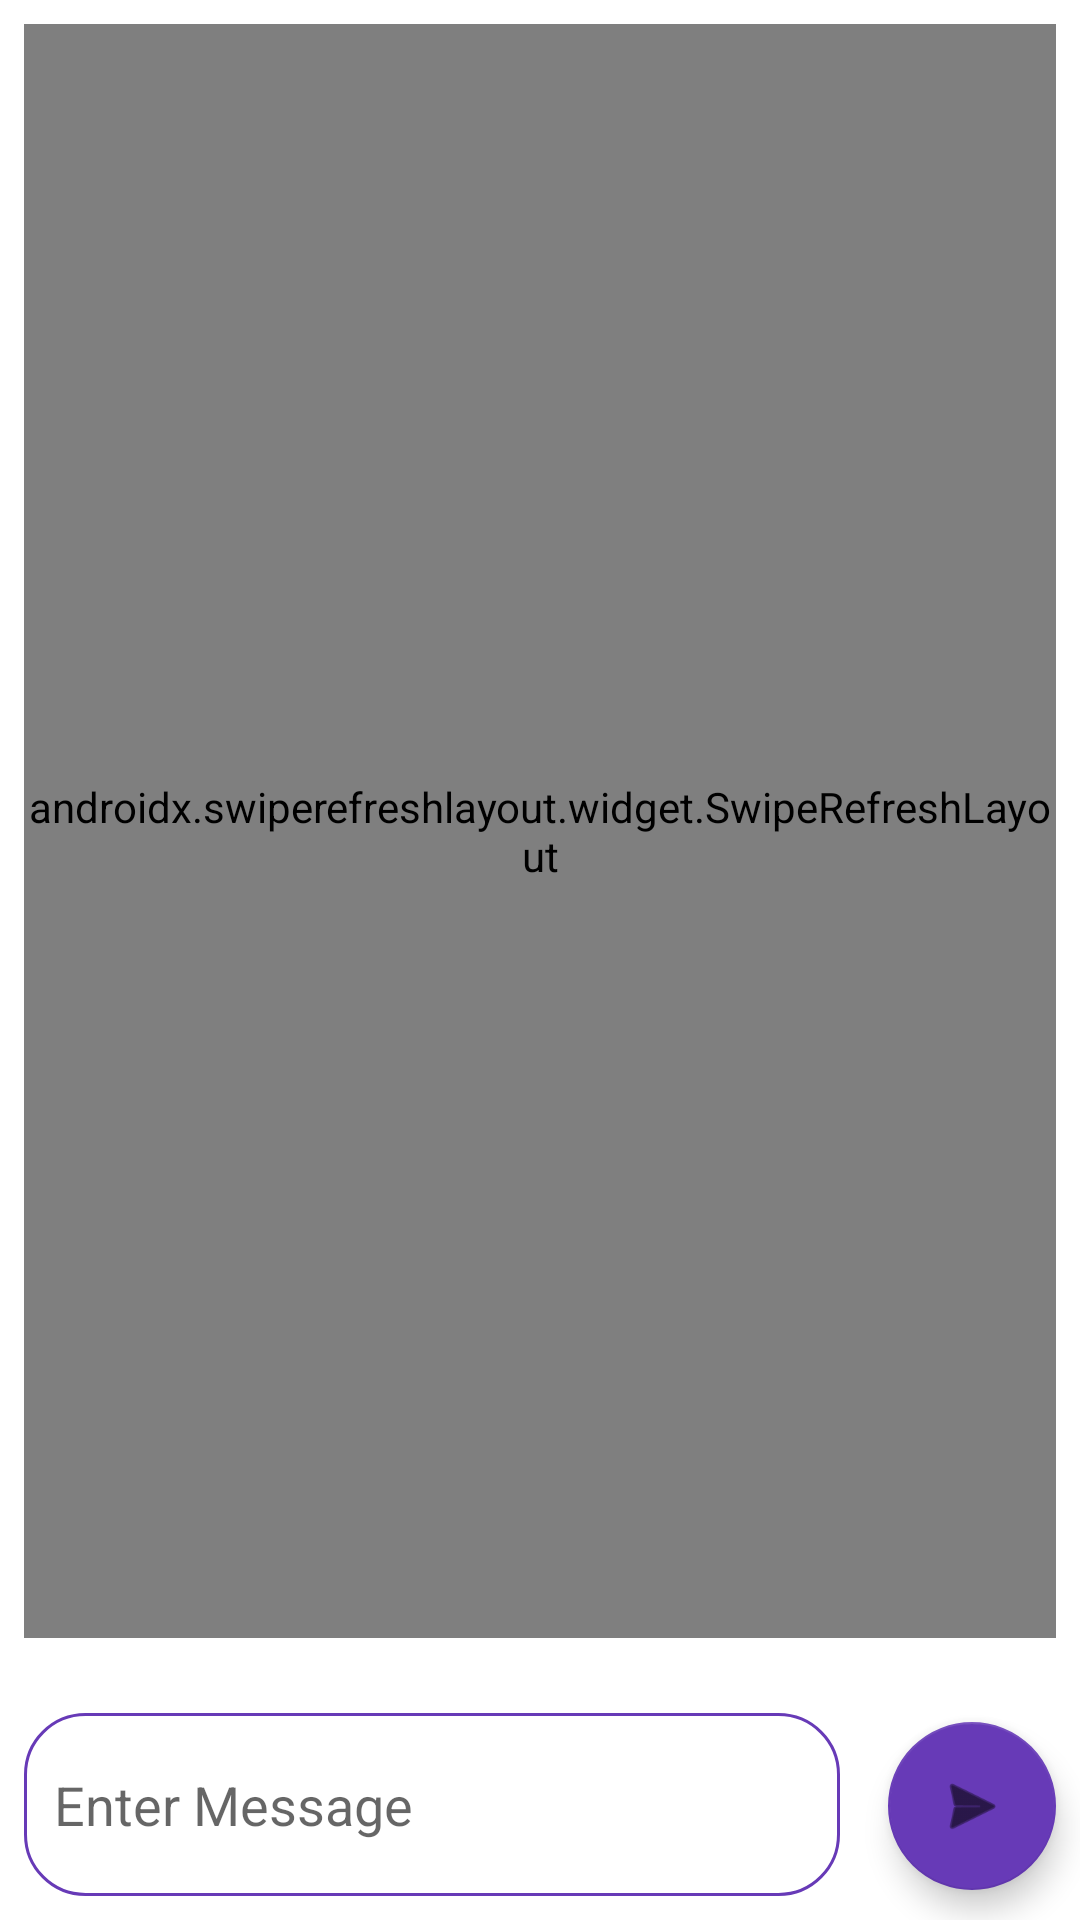

Icons on this 1080*1920 Android screen, each with the point to tap as [x,y]:
Send icon: [972,1806]
